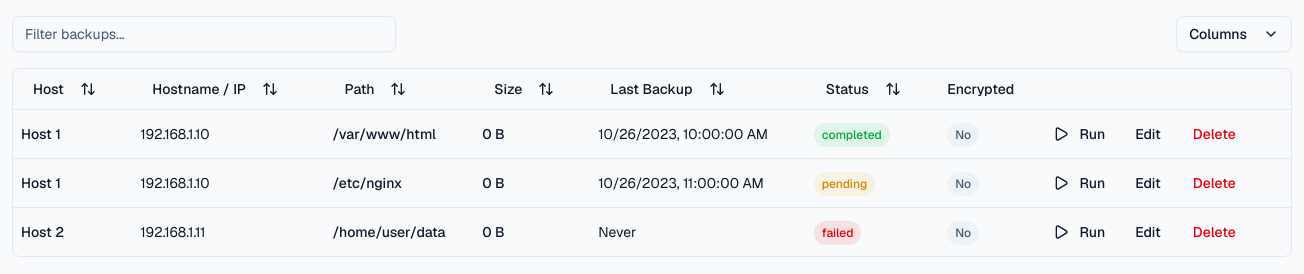
Test: BackupsTable › Filtering › filters rows by hostname / IP
Type "192.168.1.11" into the field with placeholder "Filter backups..." at (204, 34), box [12,16,396,52]
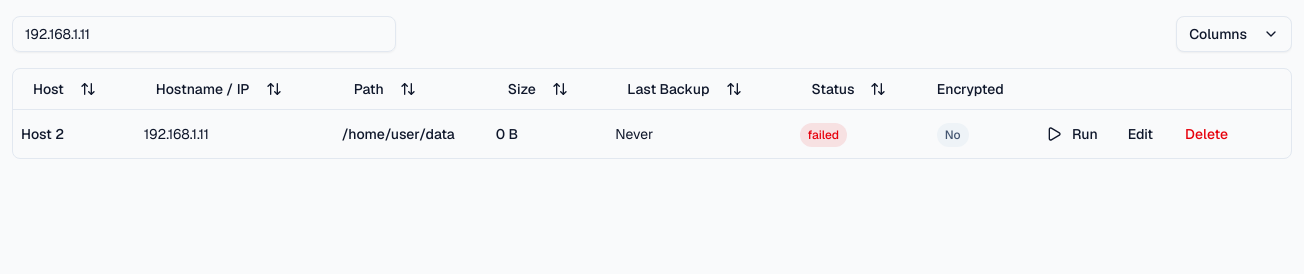
Expected: the text "Host 2" is shown, [21,124,64,142]
Now the text "Host 1" is gone
